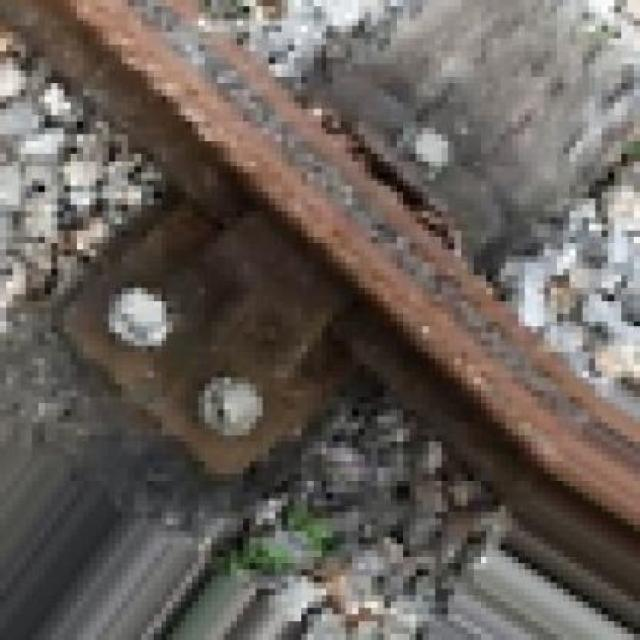defective: (11, 1, 640, 608)
